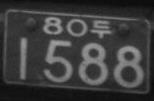0: (66, 17, 88, 37)
1: (9, 37, 36, 80)
5: (41, 38, 73, 84)
8: (77, 41, 109, 86), (113, 44, 145, 89), (42, 16, 64, 35)
두: (90, 18, 112, 39)
